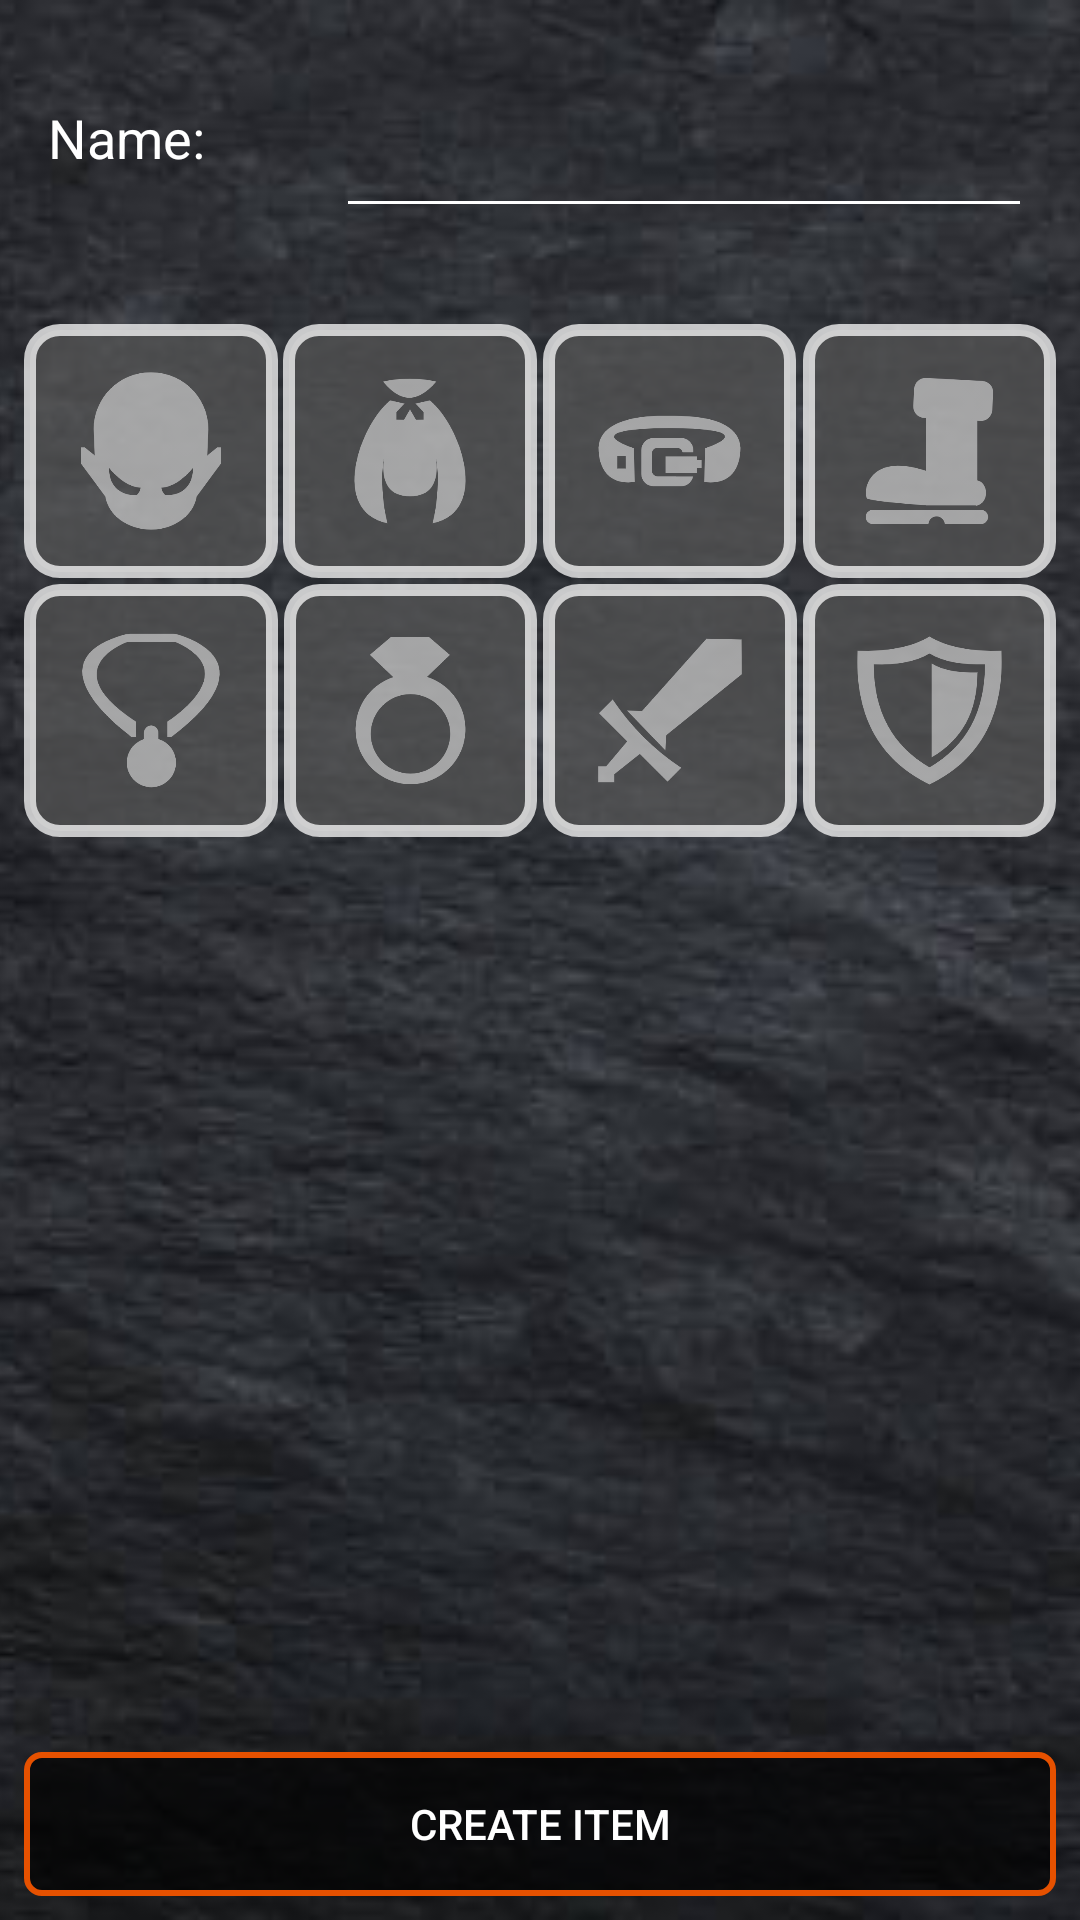

Screen size 1080 × 1920. Icon name, then its center in pixels as point (x, y):
item category amulet: point (151, 710)
item category belt: point (669, 451)
item category boots: point (929, 451)
item category cloak: point (410, 451)
item category hat: point (151, 451)
item category ring: point (410, 710)
item category shield: point (929, 710)
item category weapon: point (670, 710)
